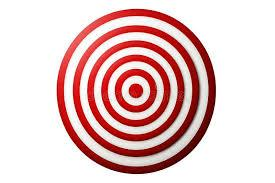target_red: (55, 7, 216, 174)
